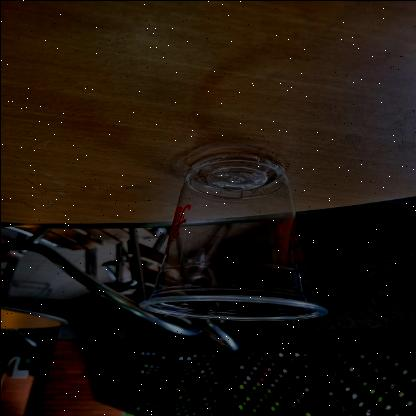Others: (133, 149, 333, 325)
